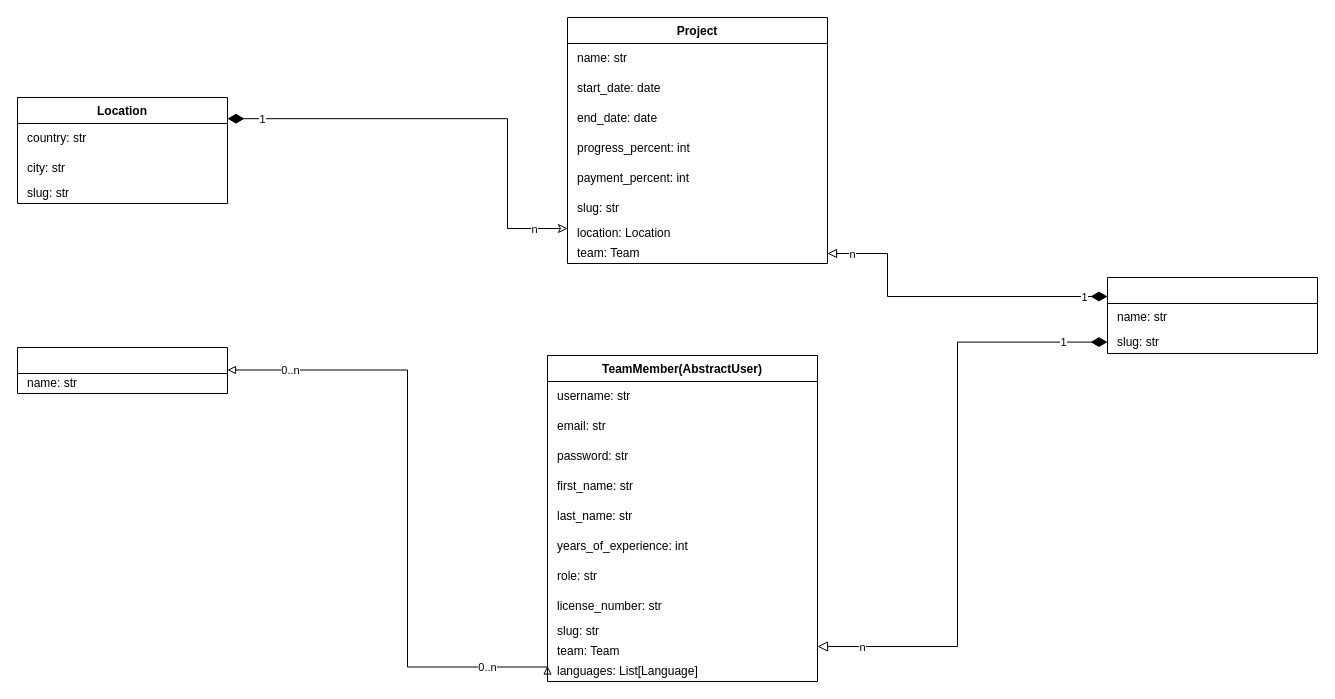
The diagram is 1335 pixels wide and 699 high, and some of its shapes have lost their labels. Each missing label, with the box of its shape:
Language: (16, 346, 228, 394)
Team: (1106, 276, 1318, 354)
